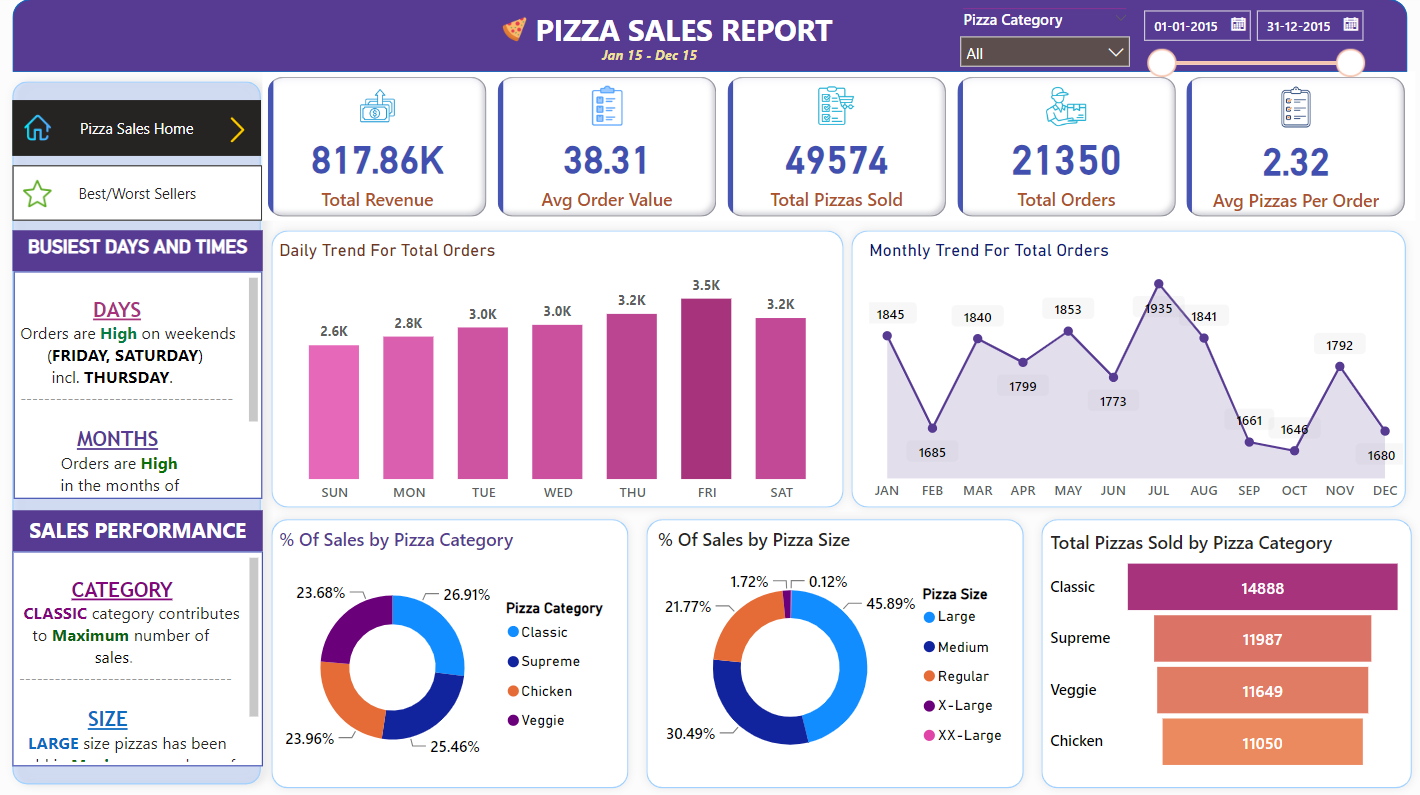

The page's visual inventory and layout, read from the dashboard file:
{"tool":"powerbi","page":{"name":"Home","canvas":[1280,720],"ordinal":0},"visuals":[{"type":"shape","box":[0,63.4,246.3,656.1],"z":0},{"type":"cardVisual","fields":{"Data":["pizza_sales.Total Revenue","pizza_sales.Avg Order Value","pizza_sales.Total Pizzas Sold","pizza_sales.Total Orders","pizza_sales.Avg Pizzas Per Order"]},"box":[236.6,65.9,1039,134.1],"z":1000},{"type":"shape","box":[11,0,1257.3,65.9],"z":2000},{"type":"textbox","box":[34.6,4.2,1163,47.2],"z":3000},{"type":"textbox","box":[538,35.7,118.5,30.4],"z":4000},{"type":"image","box":[421.6,11.5,83.9,32.5],"z":5000},{"type":"shape","box":[236.6,200,531.7,265.9],"z":6000},{"type":"columnChart","title":"Daily Trend For Total Orders","fields":{"Category":["pizza_sales.Order Day"],"Y":["pizza_sales.Total Orders"]},"box":[246.3,217.1,513.4,241.5],"z":7000},{"type":"shape","box":[759.8,200,515.9,265.9],"z":8000},{"type":"areaChart","title":"Monthly Trend For Total Orders","fields":{"Category":["pizza_sales.Order Month"],"Y":["pizza_sales.Total Orders"]},"box":[778,217.1,491.5,243.9],"z":9000},{"type":"shape","box":[236.6,461,337.8,258.5],"z":10000},{"type":"shape","box":[574.4,461,356.1,258.5],"z":11000},{"type":"shape","box":[930.5,461,350,258.5],"z":12000},{"type":"donutChart","title":"% Of Sales by Pizza Category","fields":{"Category":["pizza_sales.pizza_category"],"Y":["pizza_sales.Total Revenue"]},"box":[246.3,475.6,313.4,232.9],"z":13000},{"type":"donutChart","title":"% Of Sales by Pizza Size","fields":{"Category":["pizza_sales.pizza_size"],"Y":["pizza_sales.Total Revenue"]},"box":[587.8,475.6,330.5,232.9],"z":14000},{"type":"funnel","title":"Total Pizzas Sold by Pizza Category","fields":{"Category":["pizza_sales.pizza_category"],"Y":["pizza_sales.Total Pizzas Sold"]},"box":[941.5,475.6,328,224.4],"z":15000},{"type":"textbox","box":[11,208.5,225.6,36.6],"z":16000},{"type":"textbox","box":[12.2,245.1,224.4,204.9],"z":17000},{"type":"textbox","box":[11,461,225.6,36.6],"z":18000},{"type":"textbox","box":[11,497.6,225.6,193.9],"z":19000},{"type":"slicer","fields":{"Values":["pizza_sales.pizza_category"]},"box":[854.9,3.7,173.2,59.8],"z":20000},{"type":"slicer","fields":{"Values":["pizza_sales.order_date"]},"box":[1018.3,0,219.5,82.9],"z":21000},{"type":"pageNavigator","box":[11,91.5,224.4,50],"z":22000},{"type":"pageNavigator","box":[11,150,225.6,50],"z":23000},{"type":"image","box":[182.9,101.2,63.4,32.9],"z":24000},{"type":"image","box":[12.2,98.8,42.7,34.1],"z":25000},{"type":"image","box":[11,157.3,43.9,35.4],"z":26000}]}

Visuals, with their boxes in screenshot pixels (x1, y1, x2, y2), scaled from the page's 1280x720 canvas onto the 1420x795 screenshot:
shape: rect(0, 70, 273, 794)
cardVisual - pizza_sales.Total Revenue x pizza_sales.Avg Order Value: rect(262, 73, 1415, 221)
shape: rect(12, 0, 1407, 73)
textbox: rect(38, 5, 1329, 57)
textbox: rect(597, 39, 728, 73)
image: rect(468, 13, 561, 49)
shape: rect(262, 221, 852, 514)
"Daily Trend For Total Orders" columnChart: rect(273, 240, 843, 506)
shape: rect(843, 221, 1415, 514)
"Monthly Trend For Total Orders" areaChart: rect(863, 240, 1408, 509)
shape: rect(262, 509, 637, 794)
shape: rect(637, 509, 1032, 794)
shape: rect(1032, 509, 1419, 794)
"% Of Sales by Pizza Category" donutChart: rect(273, 525, 621, 782)
"% Of Sales by Pizza Size" donutChart: rect(652, 525, 1019, 782)
"Total Pizzas Sold by Pizza Category" funnel: rect(1044, 525, 1408, 773)
textbox: rect(12, 230, 262, 271)
textbox: rect(14, 271, 262, 497)
textbox: rect(12, 509, 262, 549)
textbox: rect(12, 549, 262, 764)
slicer - pizza_sales.pizza_category: rect(948, 4, 1141, 70)
slicer - pizza_sales.order_date: rect(1130, 0, 1373, 92)
pageNavigator: rect(12, 101, 261, 156)
pageNavigator: rect(12, 166, 262, 221)
image: rect(203, 112, 273, 148)
image: rect(14, 109, 61, 147)
image: rect(12, 174, 61, 213)
